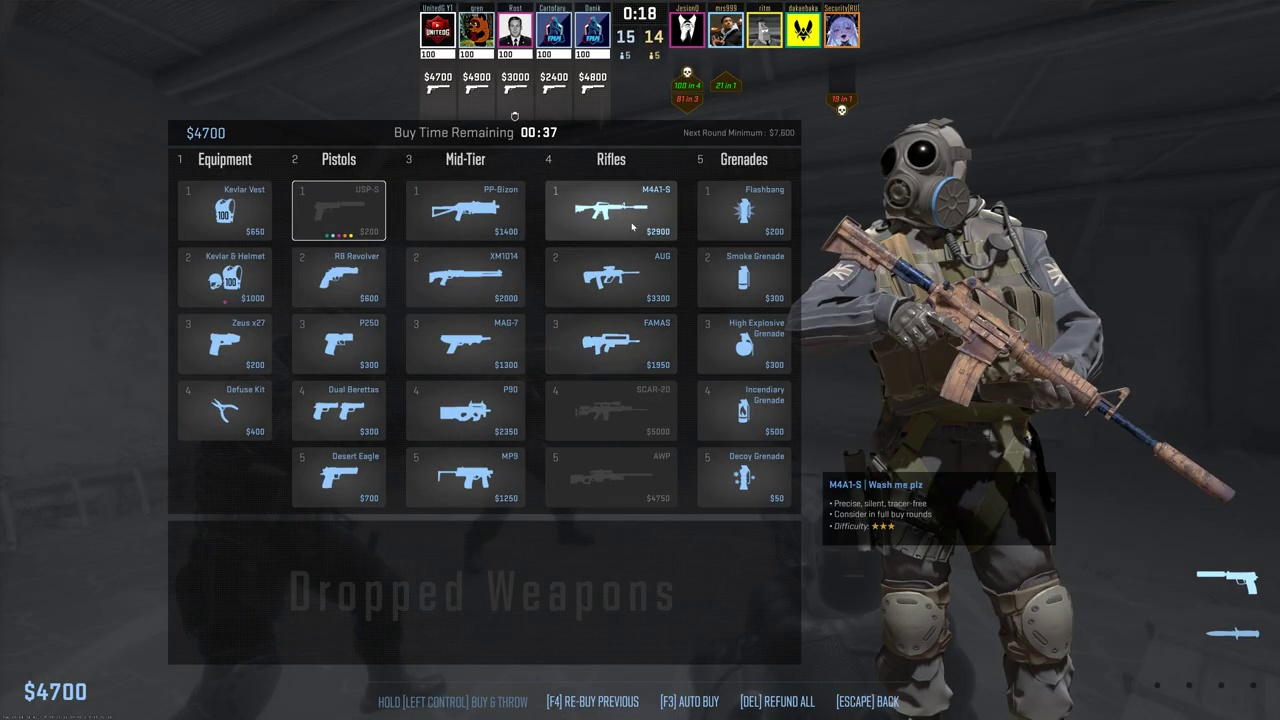CT: (848, 128, 1098, 710)
